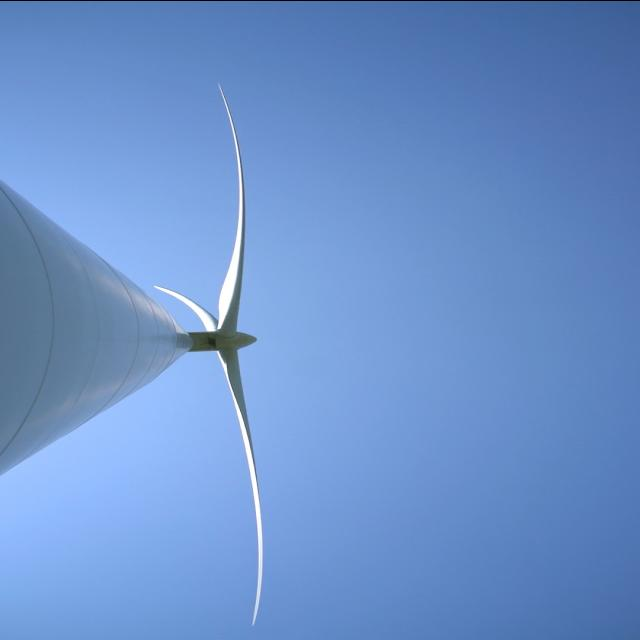blade 1: (156, 238, 204, 310)
blade 2: (226, 362, 286, 634)
blade 3: (218, 37, 280, 306)
